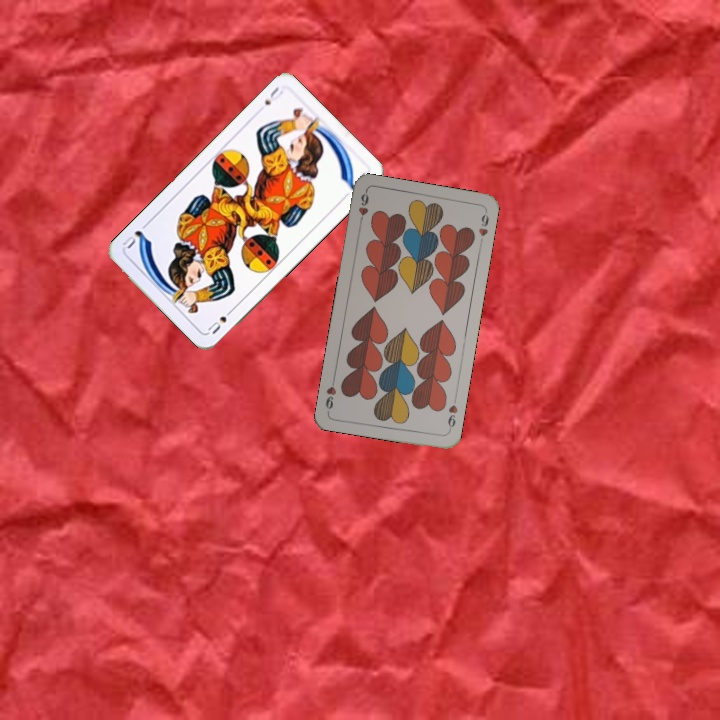H9: (354, 188, 371, 228), (444, 394, 460, 434)
SU: (204, 304, 237, 337), (260, 83, 285, 108)
